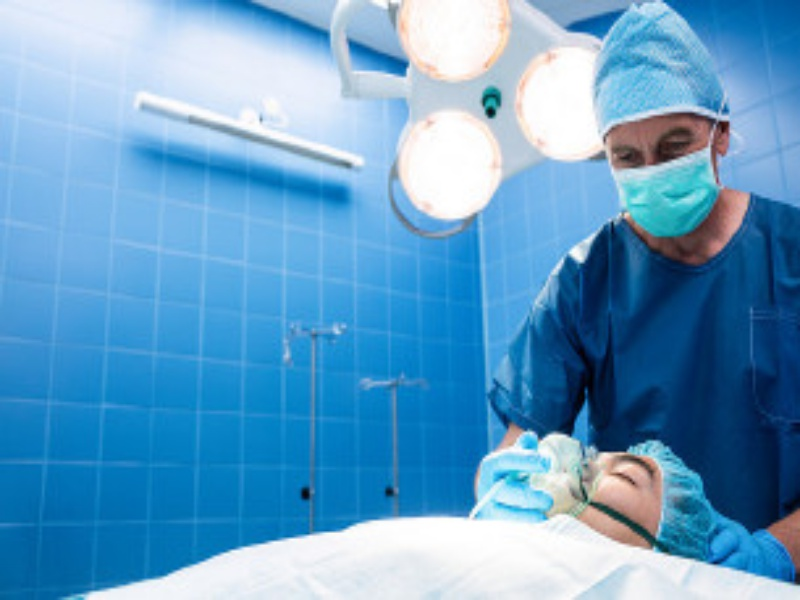mask: (591, 1, 750, 240)
